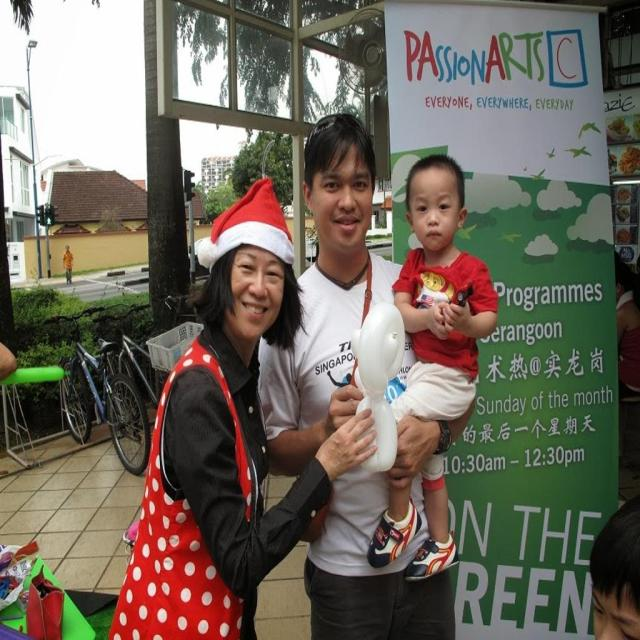Face: (308, 130, 382, 268), (220, 233, 290, 348), (401, 155, 466, 260)
